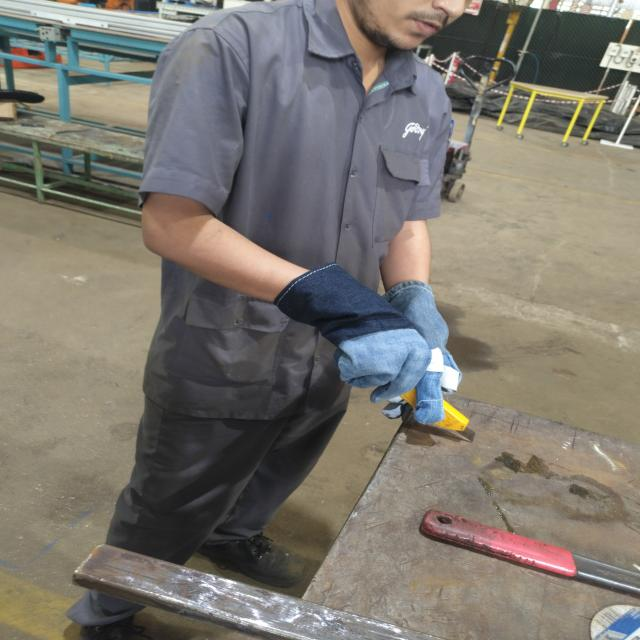Gloves-Detection: (296, 258, 465, 421)
